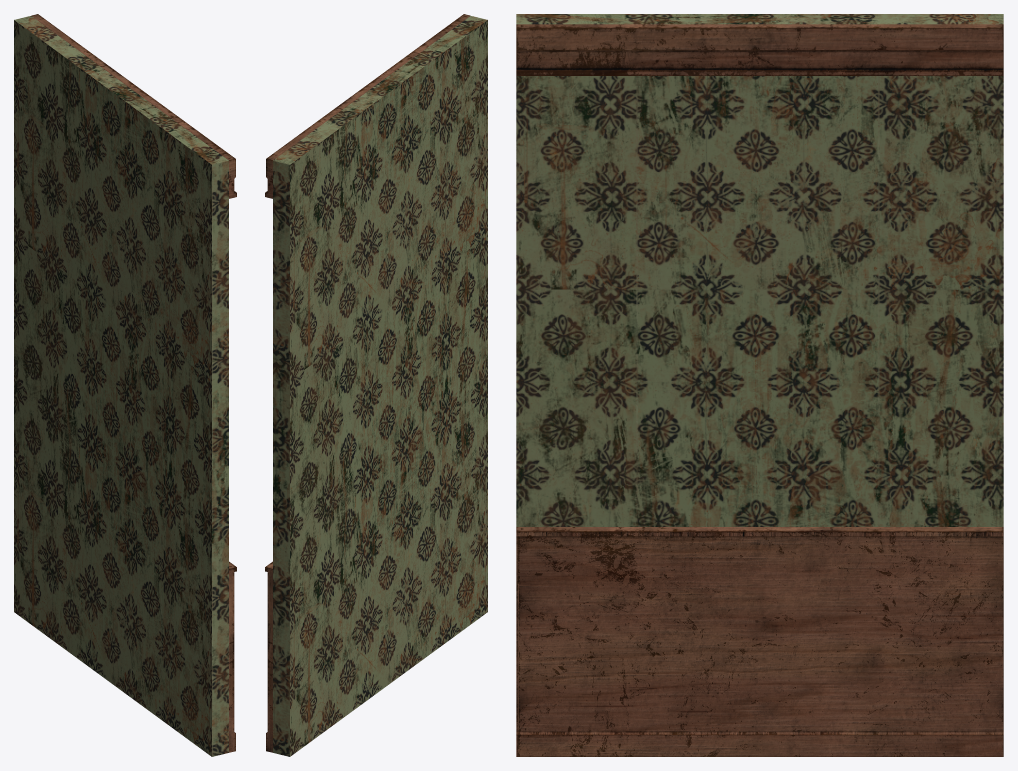
File: Wall_2m_A.fbx
3 views of the same model, side by side, from view 1: azimuth 30°, elevation 25°; view 2: azimuth 150°, elevation 25°; view 3: azimuth 270°, elevation 25° (orthographic). The views are drawn at different scales.
Parts seen in each view (by area): view 1: Wall_2m_A; view 2: Wall_2m_A; view 3: Wall_2m_A.
Part boxes in pixels (x1=…): Wall_2m_A: x1=14, y1=14, x2=236, y2=756; Wall_2m_A: x1=265, y1=14, x2=487, y2=756; Wall_2m_A: x1=516, y1=14, x2=1003, y2=756.
Bounding box in the file's own units: 0.1458 × 2 × 3.3.
Materials: 2 (2 with a texture image).
